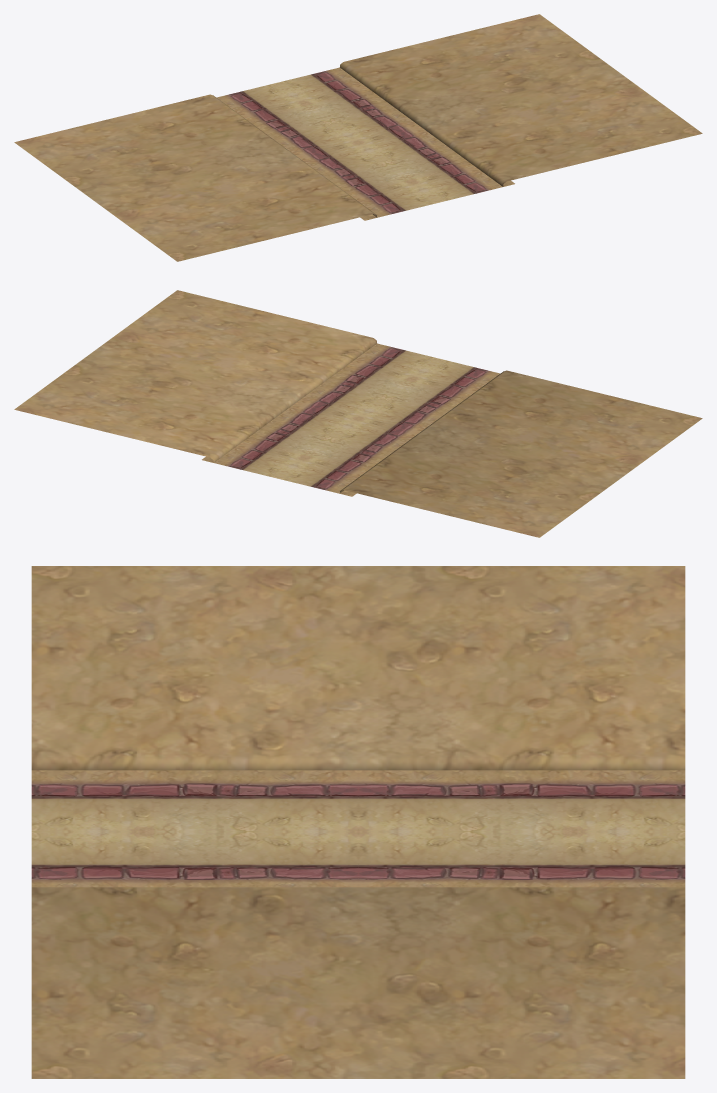
Rendered from dimian-02.FBX.
3 views of the same model, one above another, from view 1: azimuth 30°, elevation 25°; view 2: azimuth 150°, elevation 25°; view 3: azimuth 270°, elevation 25° (orthographic). The views are drawn at different scales.
Parts seen in each view (by area): view 1: dimia - 02; view 2: dimia - 02; view 3: dimia - 02.
Part boxes in pixels (x1,y1,x2,y2): dimia - 02: (14, 14, 702, 261); dimia - 02: (14, 290, 702, 537); dimia - 02: (31, 566, 685, 1078).
Size of the model in its own units: 3272 by 28.17 by 1762.
1 material, 1 textured.
